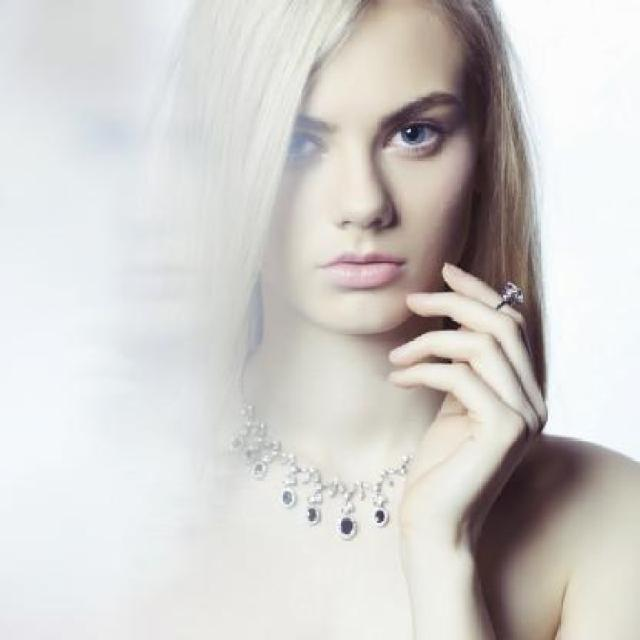face_nomask: (231, 37, 471, 329)
hand_noglove: (378, 263, 538, 545)
person: (109, 0, 640, 640)
